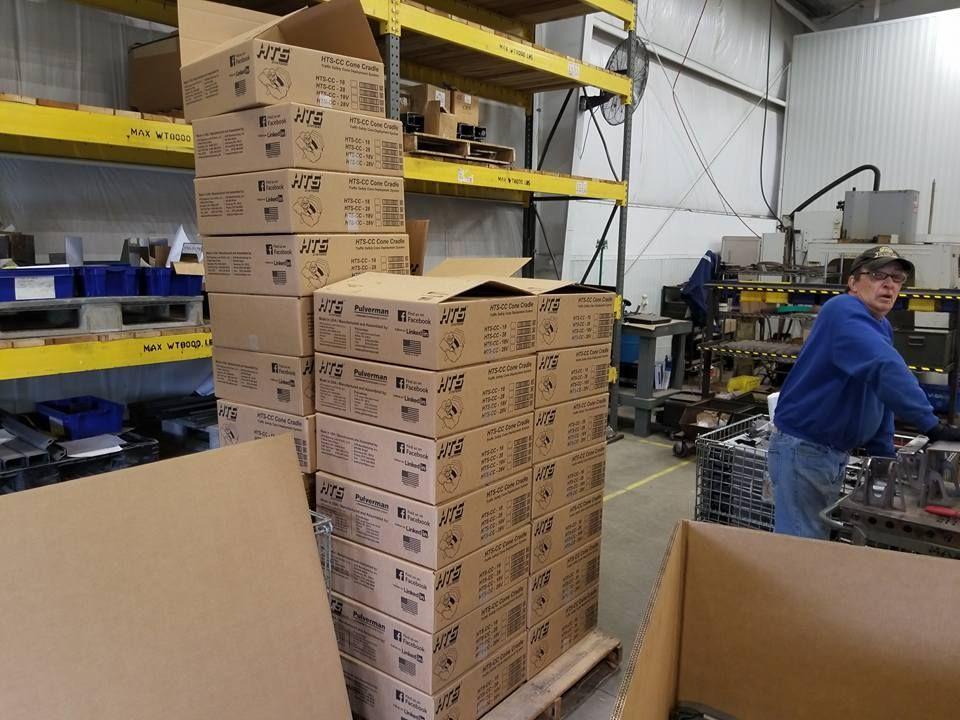box: (327, 293, 597, 674), (177, 1, 434, 272)
